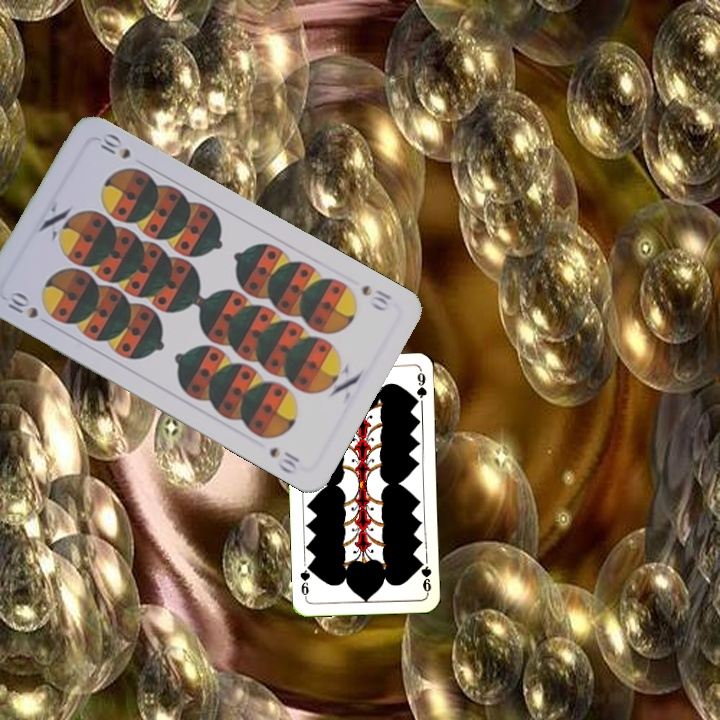G9: (415, 556, 434, 597)
S10: (3, 288, 41, 322), (357, 281, 395, 314)
